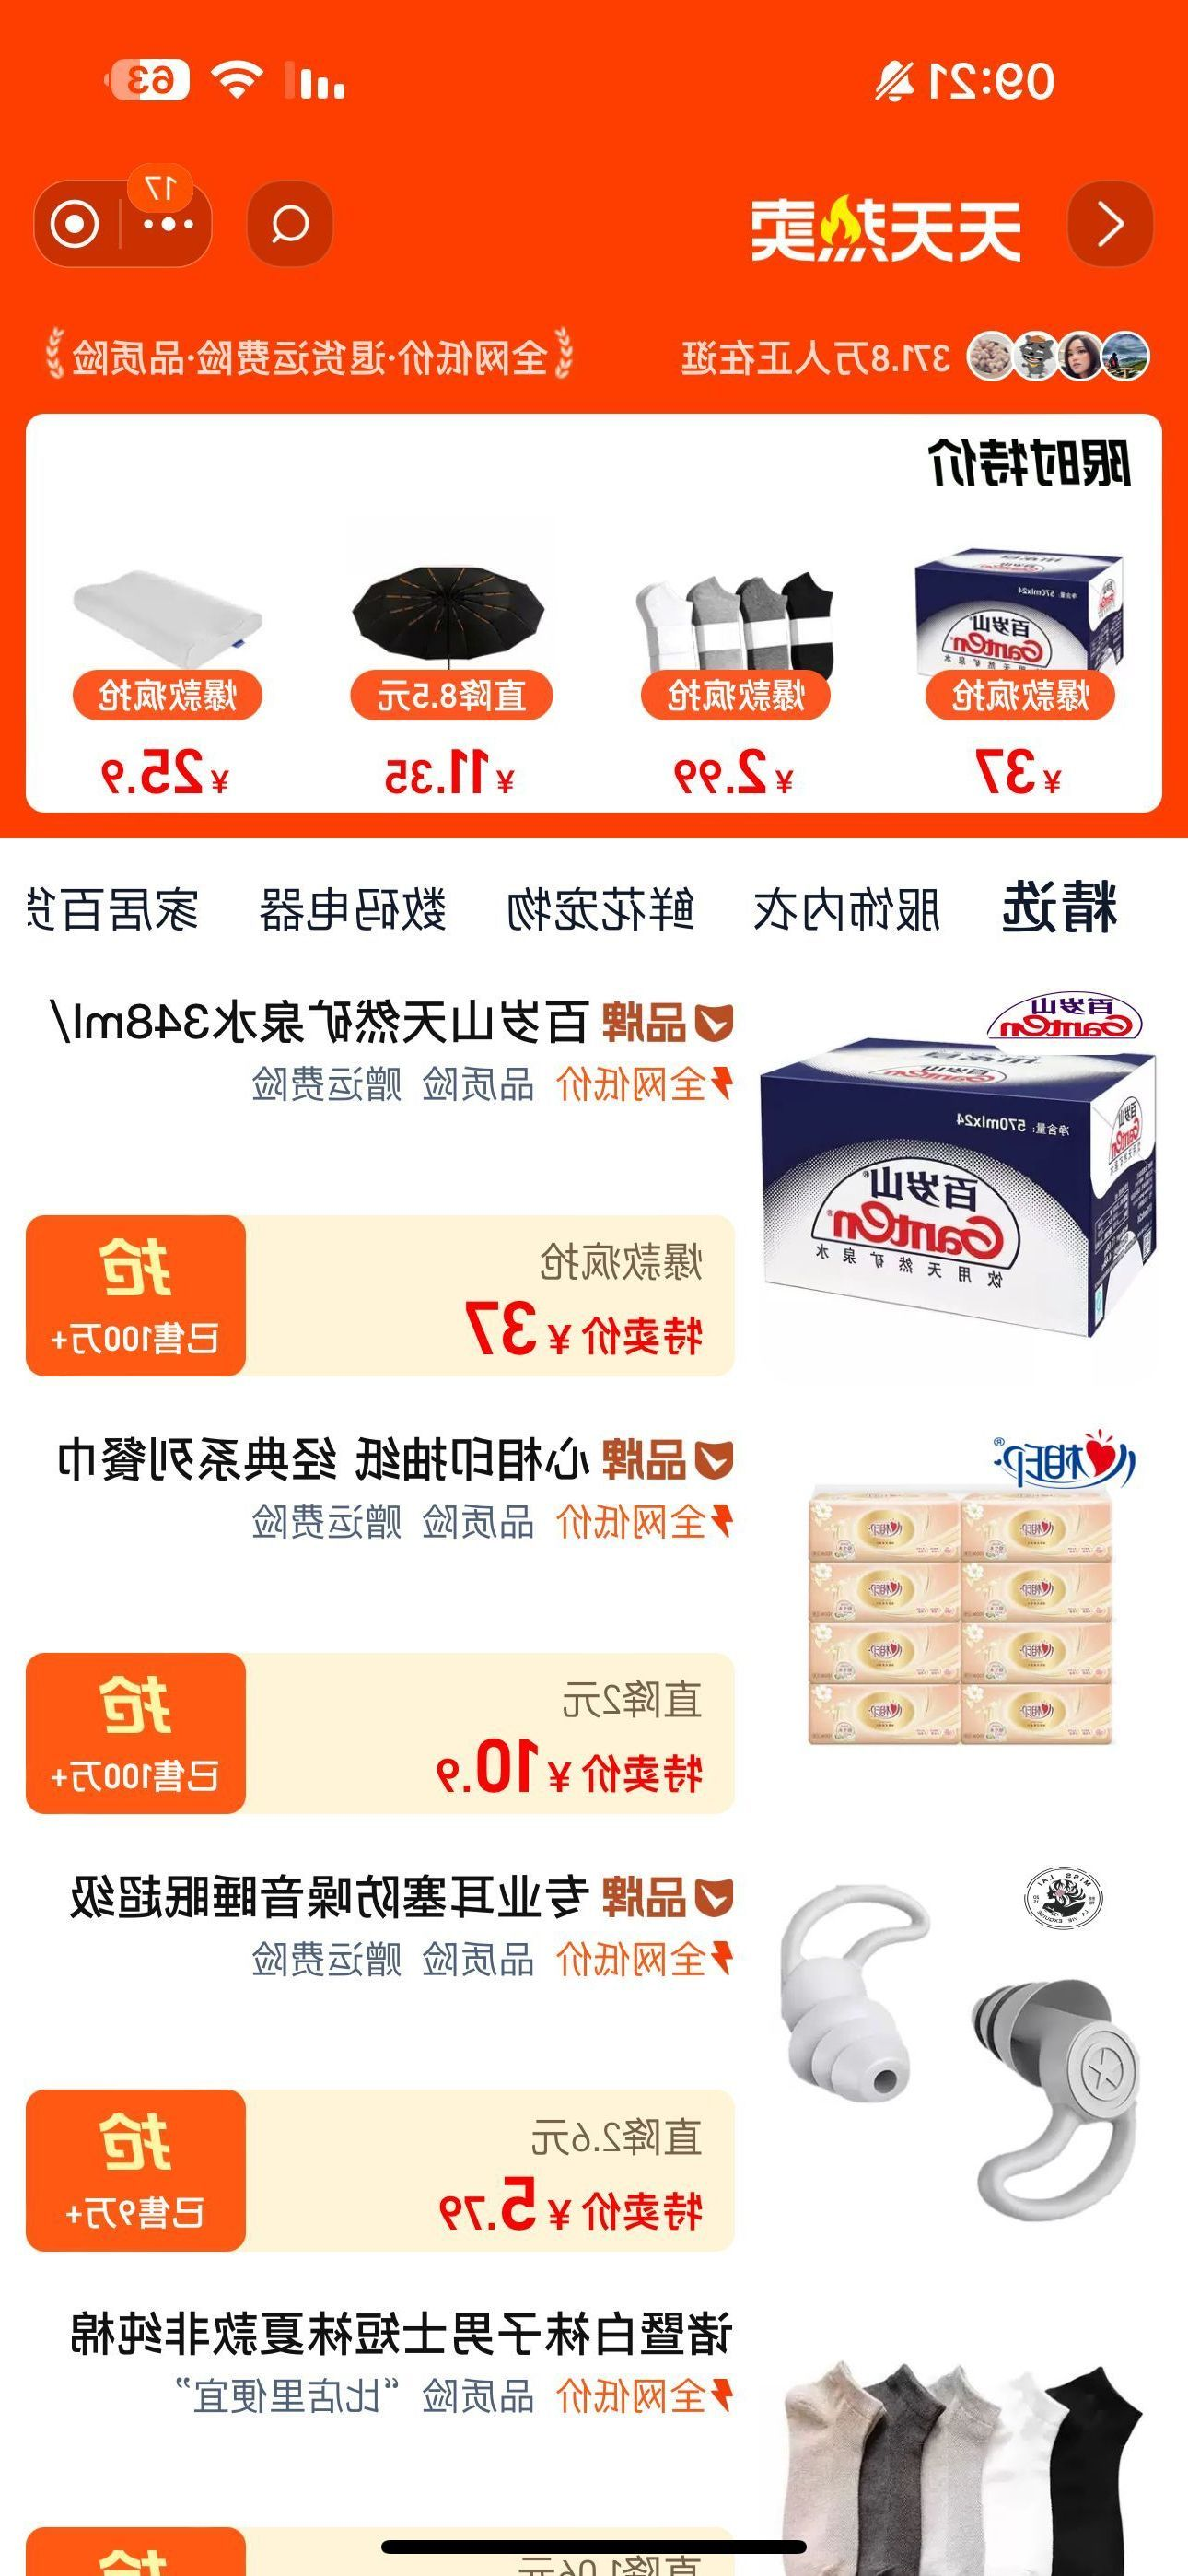item: (13, 966, 1185, 1414), (7, 1413, 1185, 1855), (13, 1865, 1185, 2293)
op_bar: (7, 161, 1188, 292)
seckill: (2, 389, 1183, 825)
